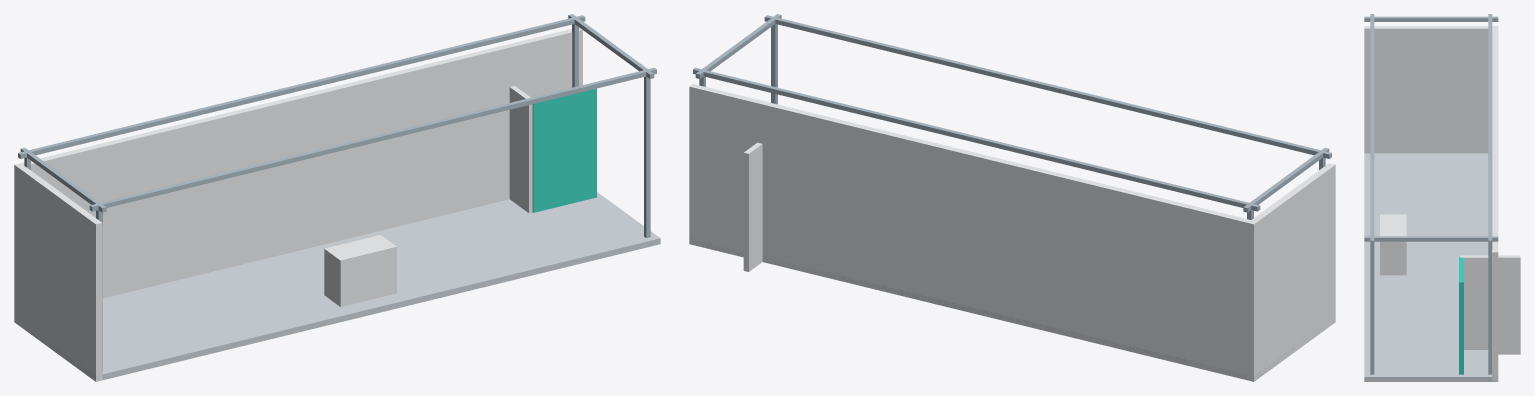
3 renders of one model, left to right at view 1: azimuth 30°, elevation 25°; view 2: azimuth 150°, elevation 25°; view 3: azimuth 270°, elevation 25°, orthographic. The views are drawn at different scales.
Visible parts, largest first — view 1: Exhibition Booth Concept; view 2: Exhibition Booth Concept; view 3: Exhibition Booth Concept.
Part boxes in pixels (x1,y1,x2,y2): Exhibition Booth Concept: [14, 14, 660, 381]; Exhibition Booth Concept: [689, 14, 1335, 381]; Exhibition Booth Concept: [1364, 14, 1520, 381].
Size of the model in its own units: 12 by 3.49 by 3.51.
